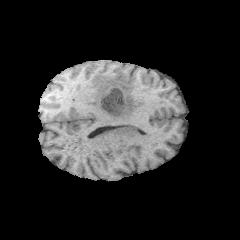glioma: (86, 74, 135, 117)
